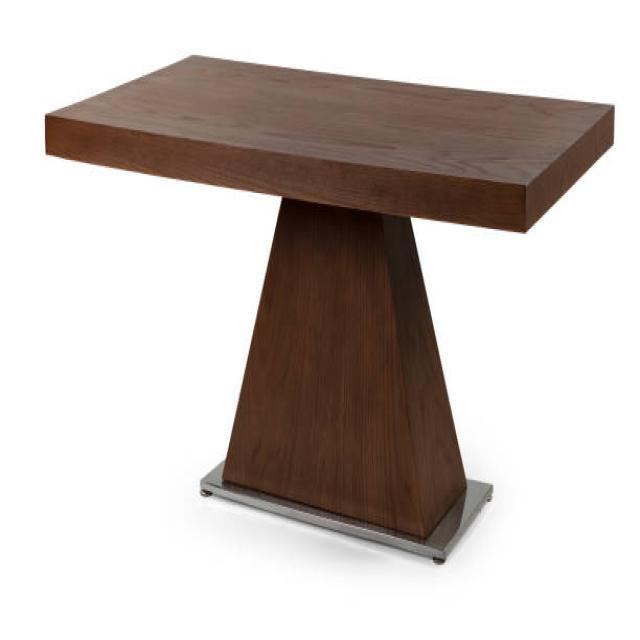table: (44, 50, 615, 563)
